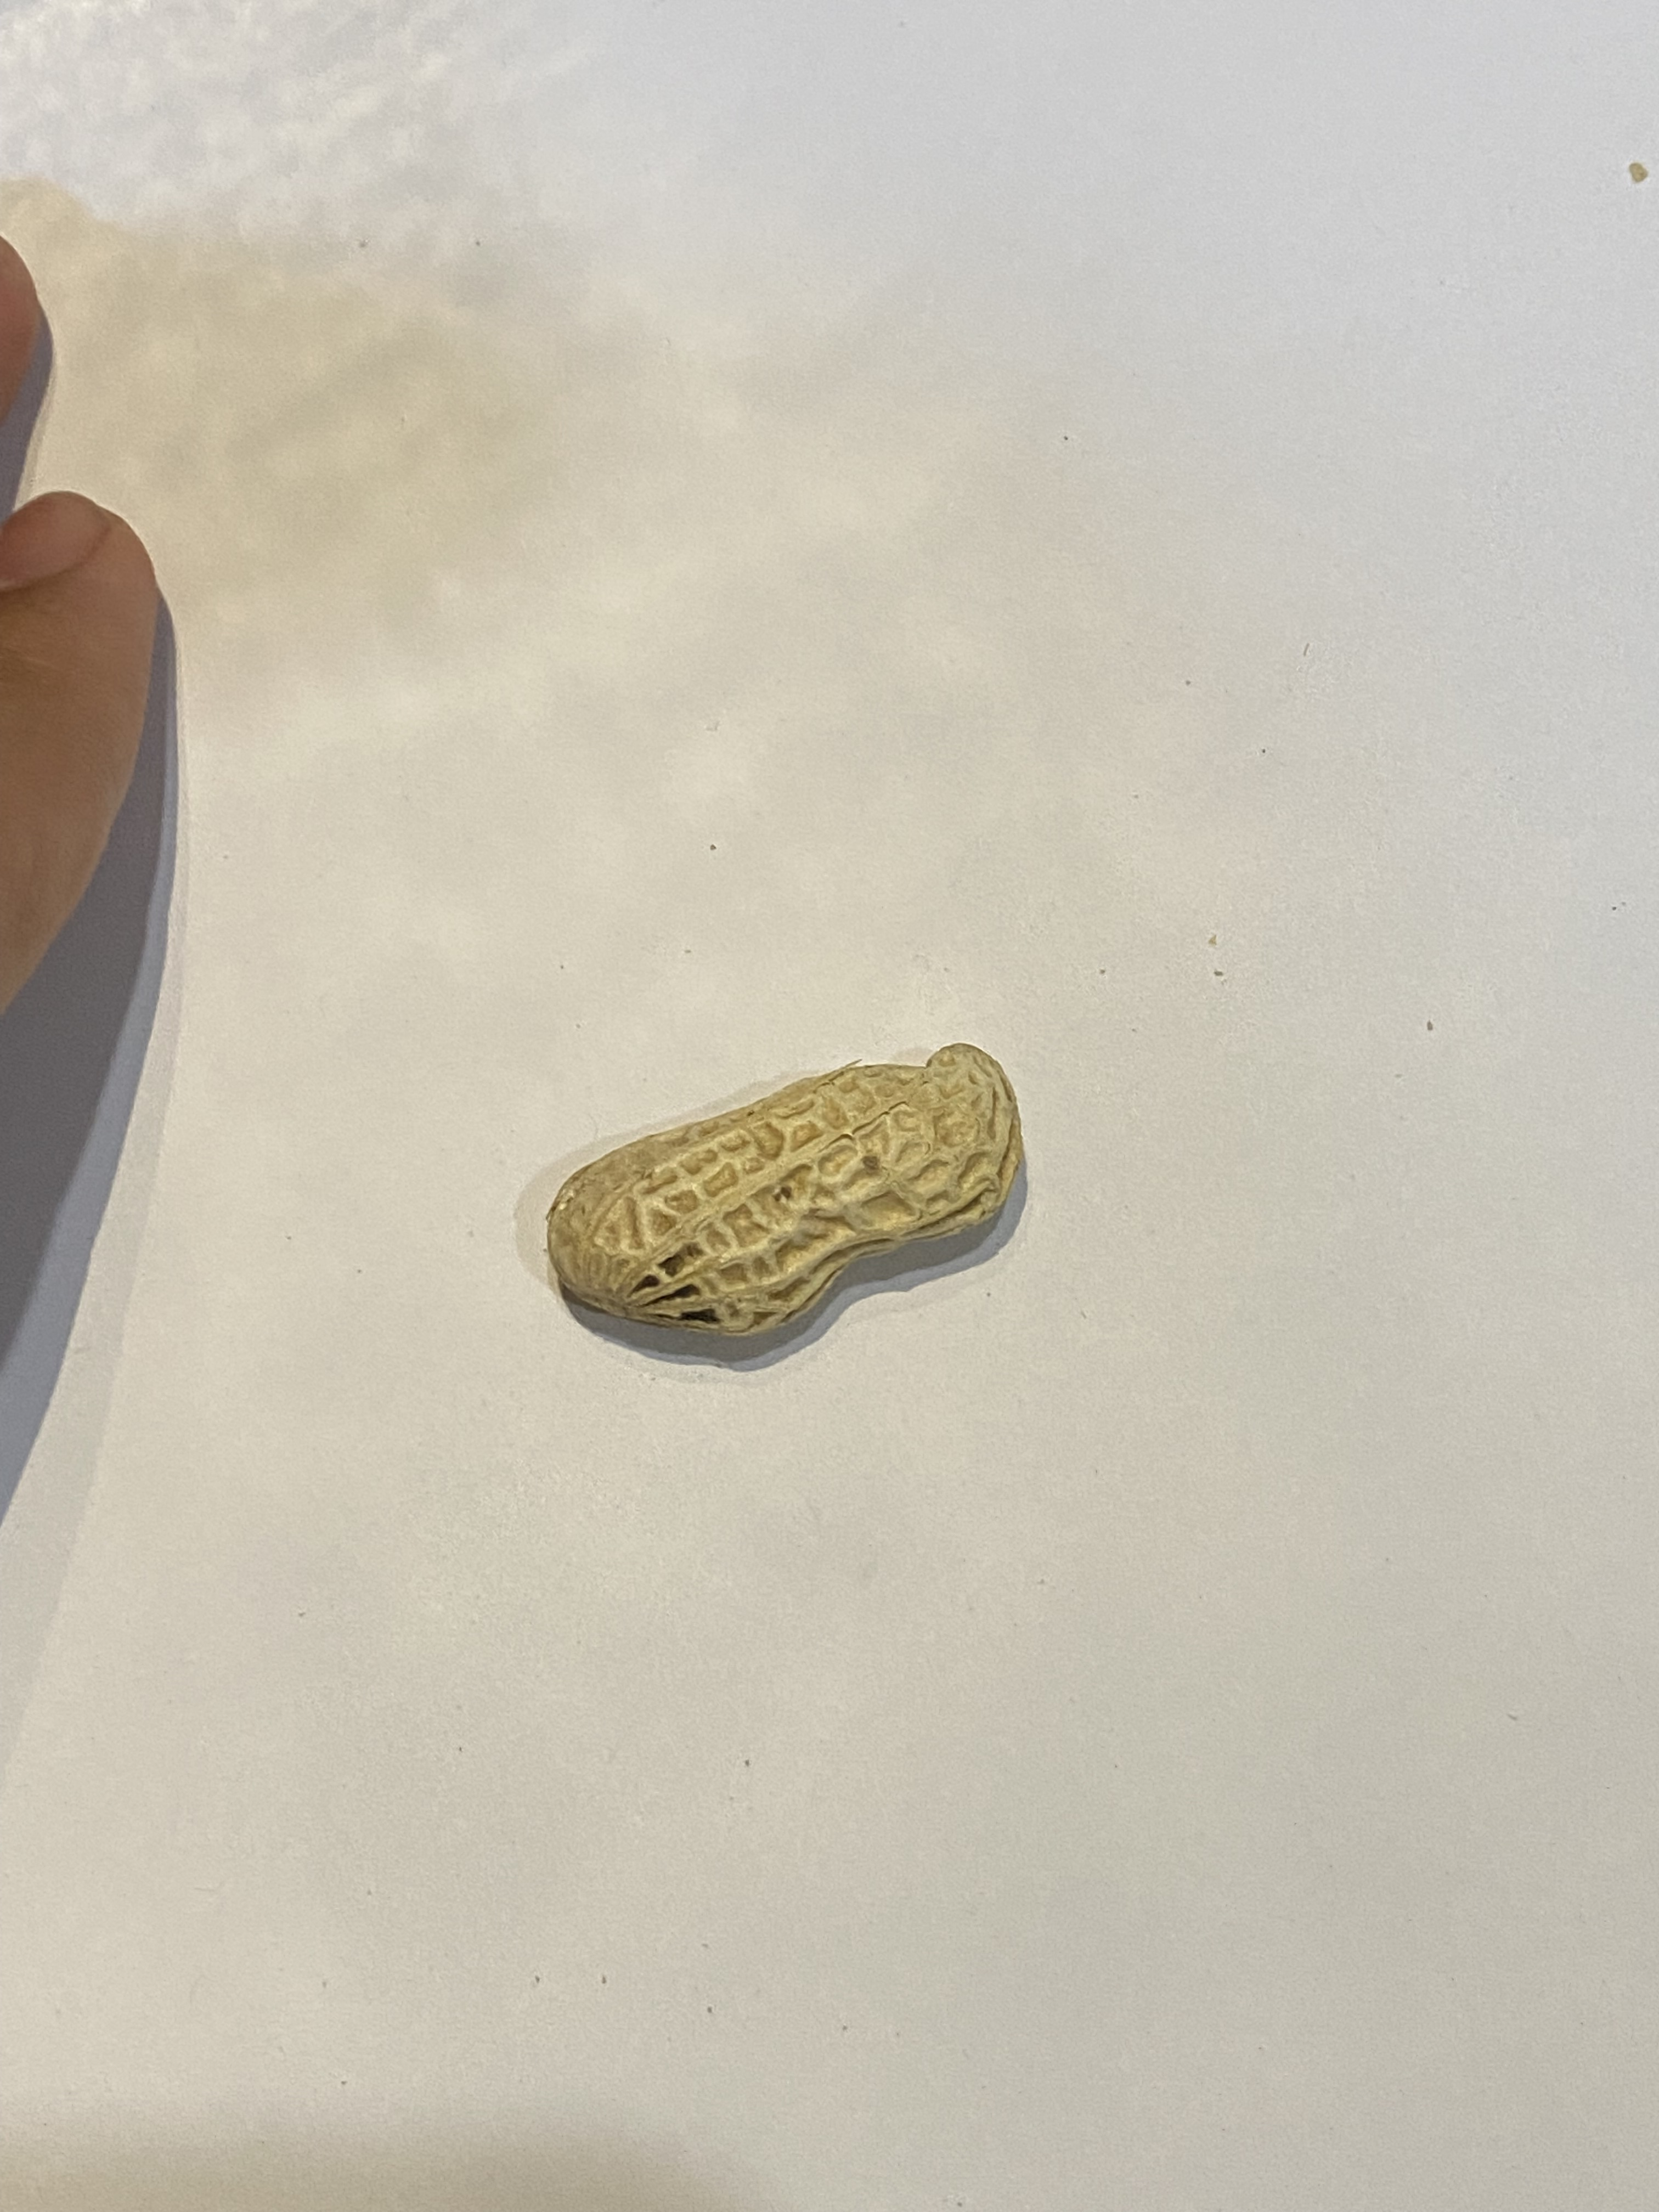kacang2: (530, 1014, 1054, 1367)
